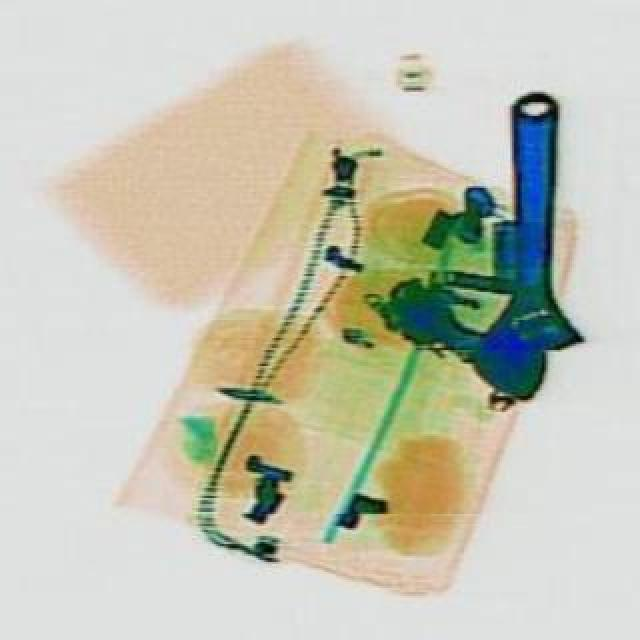scissors: (464, 86, 584, 398)
